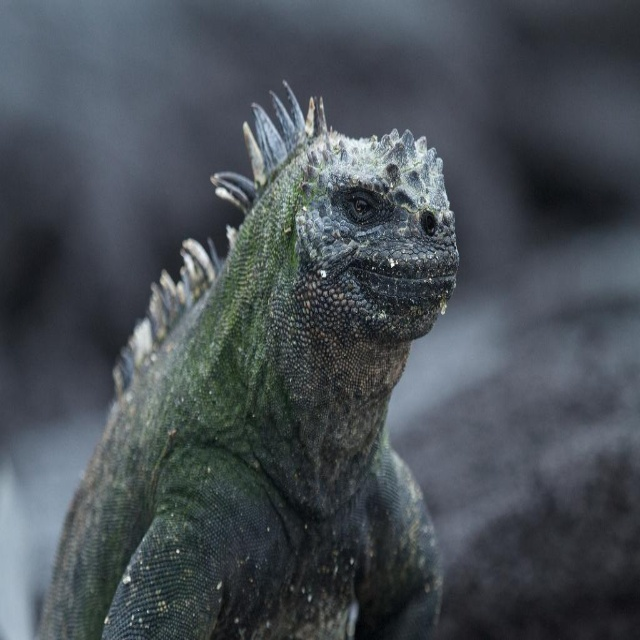Lizard: (50, 63, 454, 640)
